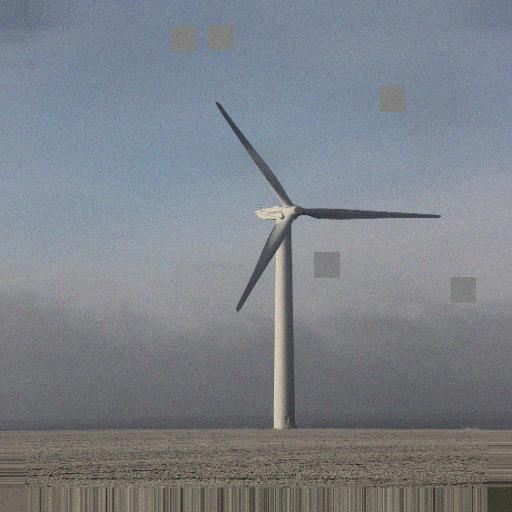wind turbine: (213, 101, 442, 430)
